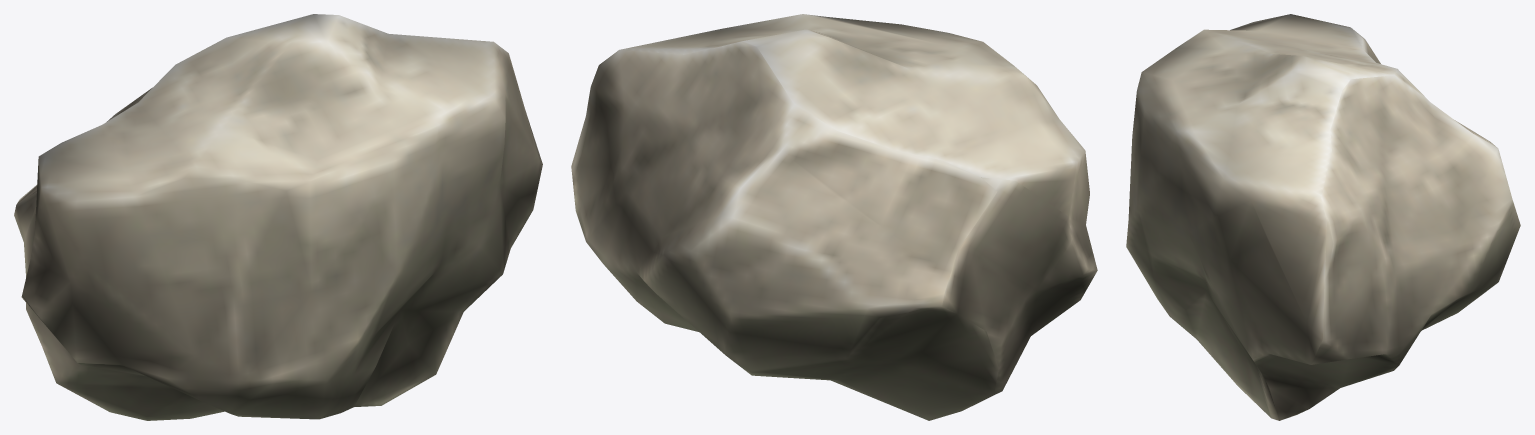
The model's file is rock_03.glb.
3 views of the same model, side by side, from view 1: azimuth 30°, elevation 25°; view 2: azimuth 150°, elevation 25°; view 3: azimuth 270°, elevation 25° (orthographic). The views are drawn at different scales.
Parts seen in each view (by area): view 1: rock; view 2: rock; view 3: rock.
Part boxes in pixels (x1,y1,x2,y2): rock: [14, 14, 542, 420]; rock: [571, 14, 1097, 420]; rock: [1126, 14, 1520, 420].
Size of the model in its own units: 1.4 by 0.9001 by 1.01.
1 material, 1 textured.
